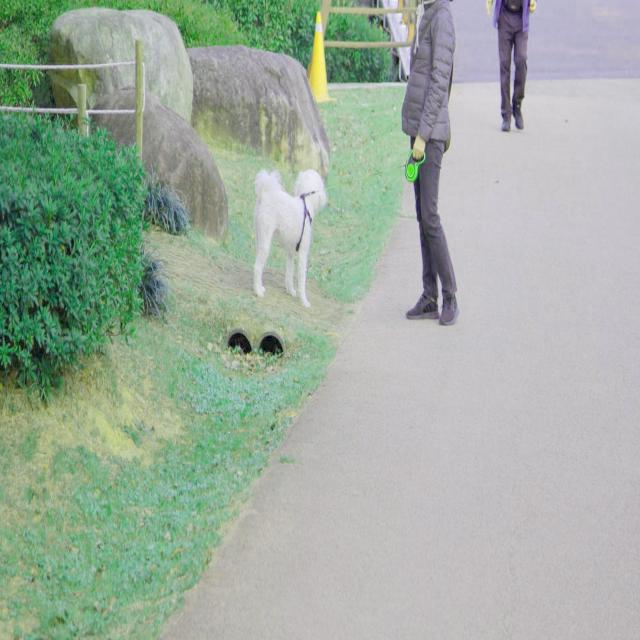Leashed_Dog: (253, 138, 440, 318)
